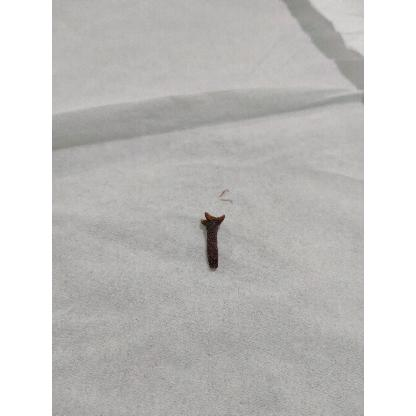buruk: (201, 212, 225, 272)
